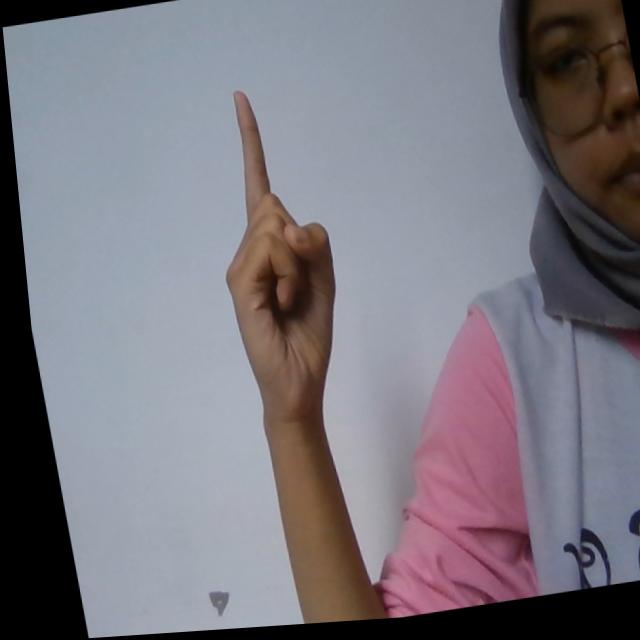D: (187, 82, 353, 420)
